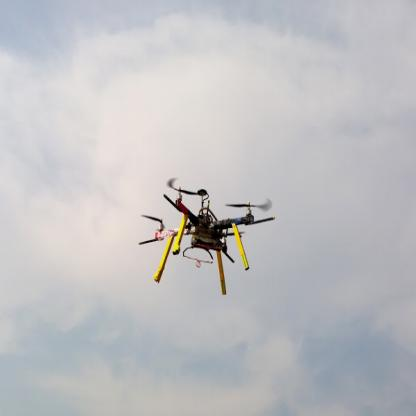drone: (119, 170, 280, 274)
